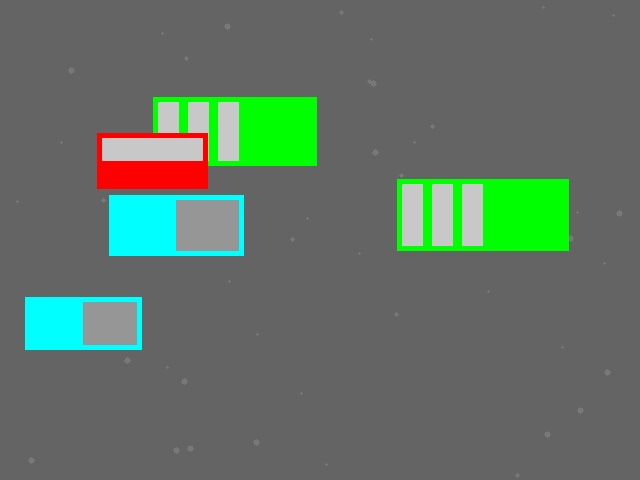bus: (397, 179, 568, 250), (153, 97, 316, 165)
car: (97, 133, 207, 188)
truck: (109, 195, 243, 255), (25, 297, 141, 349)
